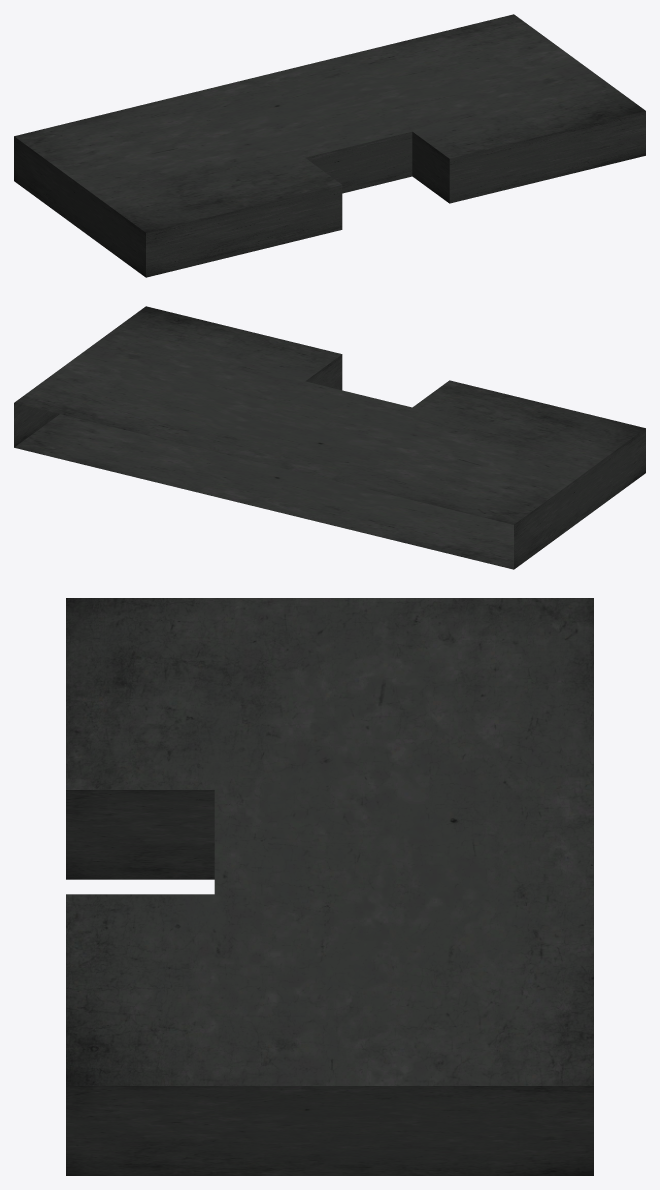
Rendered from entry_platform.fbx.
The picture shows the model from 3 angles, top to bottom: view 1: azimuth 30°, elevation 25°; view 2: azimuth 150°, elevation 25°; view 3: azimuth 270°, elevation 25°; orthographic projection. The views are drawn at different scales.
Parts seen in each view (by area): view 1: entry_platform.001; view 2: entry_platform.001; view 3: entry_platform.001.
Boxes of the visible parts, box(x1,y1,x2,y2) form: entry_platform.001: box(14, 14, 645, 277); entry_platform.001: box(14, 306, 645, 569); entry_platform.001: box(66, 598, 593, 1175).
Size of the model in its own units: 7.76 by 0.6651 by 3.55.
1 material, 1 textured.
